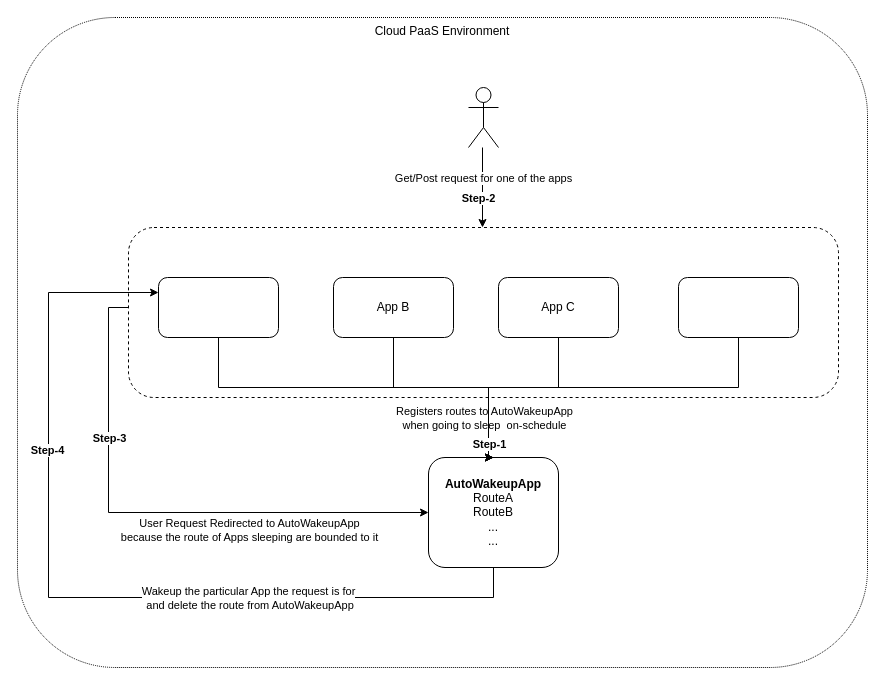
The diagram is 885 pixels wide and 685 high, and some of its shapes have lost their labels. Each missing label, with the centre of its shape:
App A: the point at 218,307
App D: the point at 738,307
